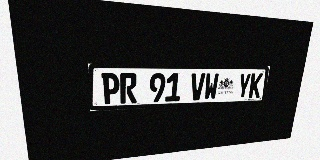1: (165, 73, 181, 102)
9: (149, 73, 166, 102)
K: (248, 73, 263, 98)
P: (101, 73, 120, 104)
R: (120, 73, 137, 104)
V: (190, 73, 205, 101)
W: (204, 73, 219, 100)
Y: (236, 73, 251, 99)
